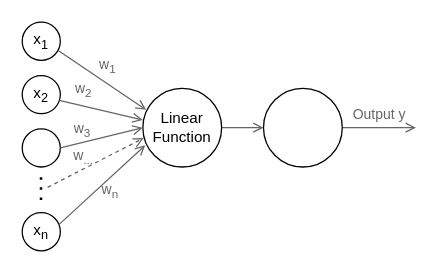
This 448x273 diagram has some shape labels left out. The centre of each missing label's shape, as x and y in pixels:
"Activation Function" belongs at [302,127].
"x 3" belongs at [40,147].
